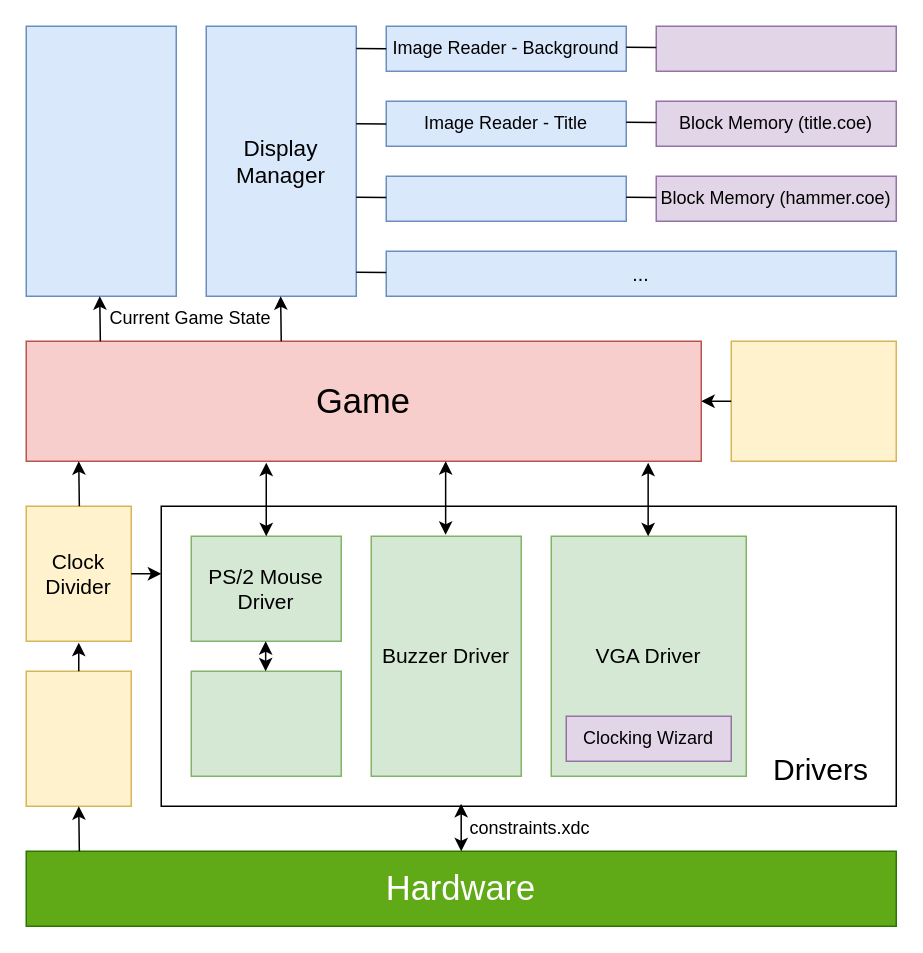
Image size: 923x953. Some labels were removed from this diagram. The centre of each missing label's shape, as x and y in pixels:
"Block Memory (background.coe)" belongs at pixel 775 48.
"Clock" belongs at pixel 78 738.
"Image Reader - Hammer" belongs at pixel 505 198.
"PS/2 Recorder" belongs at pixel 265 723.
"Random Generator （LFSR)" belongs at pixel 813 400.
"Sound Manager" belongs at pixel 100 160.
